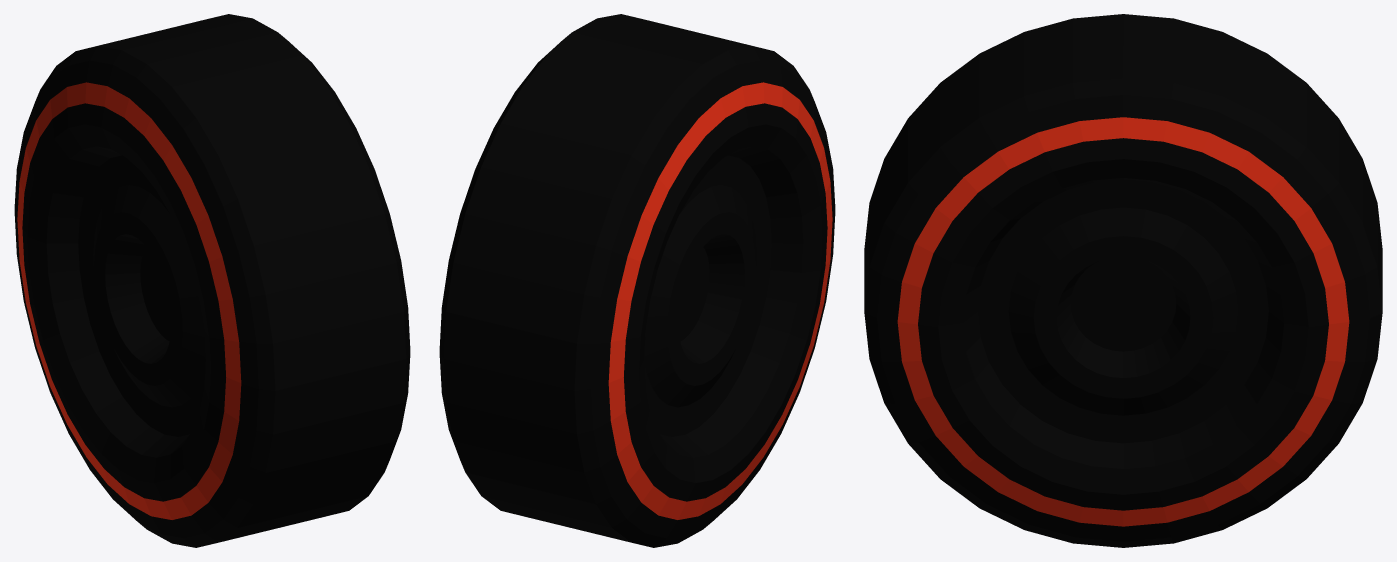
The picture shows the model from 3 angles, left to right: view 1: azimuth 30°, elevation 25°; view 2: azimuth 150°, elevation 25°; view 3: azimuth 270°, elevation 25°; orthographic projection.
Visible parts, largest first — view 1: RR; view 2: RR; view 3: RR.
Boxes of the visible parts, x1,y1,x2,y2 form: RR: [14, 14, 410, 547]; RR: [439, 14, 835, 547]; RR: [864, 14, 1382, 547].
Bounding box in the file's own units: 0.1849 × 0.4409 × 0.4409.
